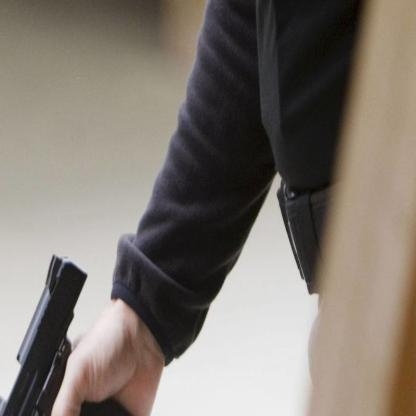gun: (0, 251, 146, 415)
